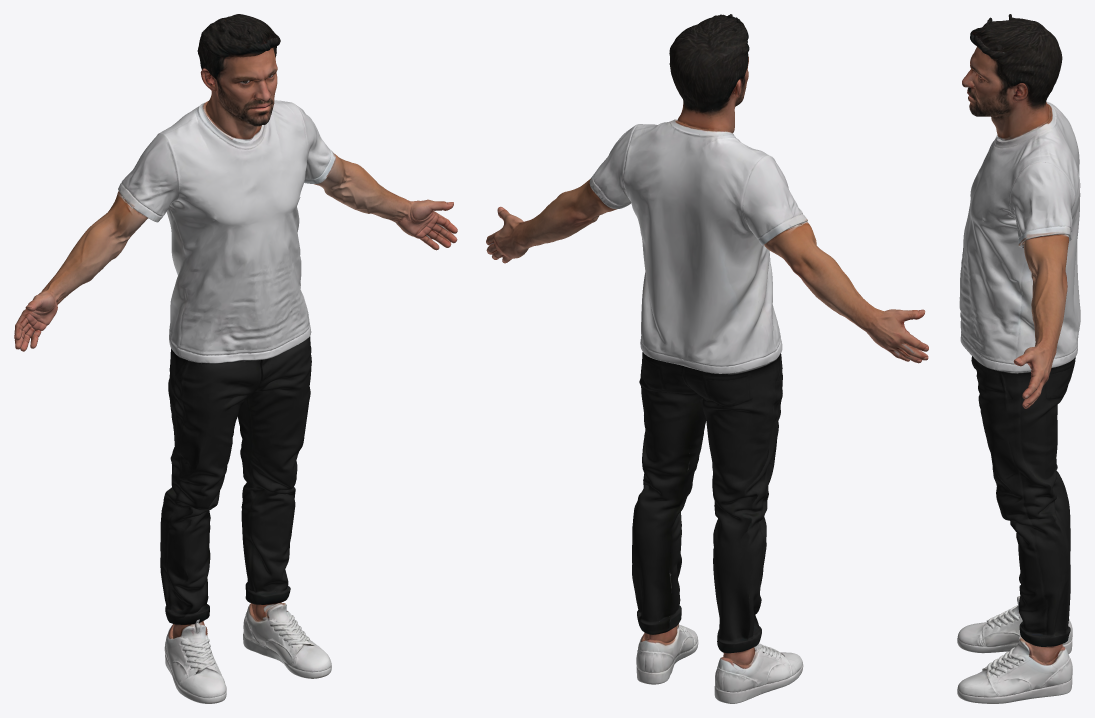
The model's file is cypherpunk.glb.
The picture shows the model from 3 angles, left to right: view 1: azimuth 30°, elevation 25°; view 2: azimuth 150°, elevation 25°; view 3: azimuth 270°, elevation 25°; orthographic projection.
Parts seen in each view (by area): view 1: tripo_part_1, tripo_part_0, tripo_part_2, tripo_part_3, tripo_part_17, tripo_part_6, tripo_part_5, tripo_part_7, tripo_part_16, tripo_part_4, tripo_part_9, tripo_part_8 (+1 smaller); view 2: tripo_part_1, tripo_part_0, tripo_part_2, tripo_part_4, tripo_part_17, tripo_part_16, tripo_part_6, tripo_part_7, tripo_part_8, tripo_part_5, tripo_part_9, tripo_part_11; view 3: tripo_part_1, tripo_part_2, tripo_part_16, tripo_part_8, tripo_part_5, tripo_part_3, tripo_part_10, tripo_part_9, tripo_part_7, tripo_part_4, tripo_part_12, tripo_part_0 (+4 smaller).
Part boxes in pixels (x1,y1,x2,y2): tripo_part_1: [160, 100, 311, 363]; tripo_part_0: [160, 349, 261, 613]; tripo_part_2: [238, 336, 311, 592]; tripo_part_3: [217, 27, 280, 126]; tripo_part_17: [39, 191, 148, 304]; tripo_part_6: [118, 132, 179, 222]; tripo_part_5: [243, 603, 331, 672]; tripo_part_7: [164, 623, 226, 697]; tripo_part_16: [314, 153, 416, 223]; tripo_part_4: [197, 14, 263, 94]; tripo_part_9: [199, 90, 265, 146]; tripo_part_8: [287, 101, 335, 183]; tripo_part_1: [622, 121, 782, 373]; tripo_part_0: [681, 353, 782, 640]; tripo_part_2: [632, 352, 706, 622]; tripo_part_4: [669, 15, 749, 111]; tripo_part_17: [764, 221, 891, 347]; tripo_part_16: [492, 178, 617, 258]; tripo_part_6: [743, 155, 807, 245]; tripo_part_7: [718, 643, 802, 692]; tripo_part_8: [589, 125, 635, 208]; tripo_part_5: [636, 624, 697, 673]; tripo_part_9: [670, 90, 736, 135]; tripo_part_11: [714, 664, 803, 703]; tripo_part_1: [959, 102, 1080, 372]; tripo_part_2: [971, 356, 1075, 636]; tripo_part_16: [1023, 234, 1069, 384]; tripo_part_8: [1011, 162, 1074, 247]; tripo_part_5: [957, 636, 1072, 697]; tripo_part_3: [962, 17, 1016, 116]; tripo_part_10: [990, 26, 1056, 102]; tripo_part_9: [991, 93, 1055, 146]; tripo_part_7: [957, 596, 1069, 647]; tripo_part_4: [986, 14, 1062, 102]; tripo_part_12: [957, 677, 1072, 703]; tripo_part_0: [1019, 409, 1070, 583].
Bounding box in the file's own units: 1.28 × 1.8 × 0.3107.
35 materials, 35 textured.
